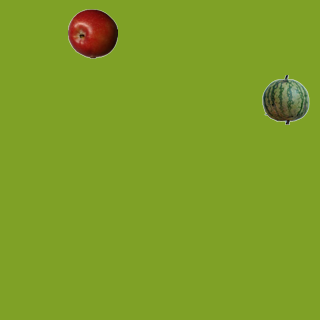Apple Braeburn: (67, 8, 117, 58)
Watermelon: (260, 74, 310, 124)
